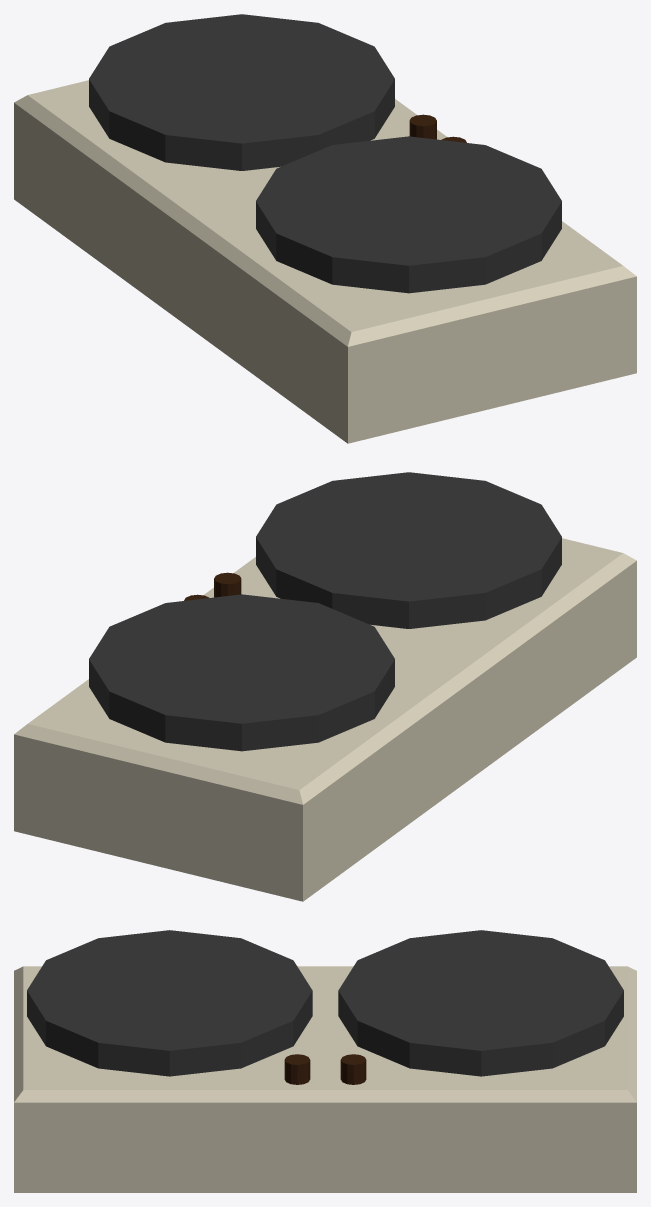
File: electricStove2.fbx
The picture shows the model from 3 angles, top to bottom: view 1: azimuth 30°, elevation 25°; view 2: azimuth 150°, elevation 25°; view 3: azimuth 270°, elevation 25°; orthographic projection. The views are drawn at different scales.
Parts seen in each view (by area): view 1: Cube, Cylinder.003, Cylinder.002, Cylinder.005; view 2: Cube, Cylinder.002, Cylinder.003, Cylinder.004; view 3: Cube, Cylinder.002, Cylinder.003, Cylinder.004, Cylinder.005.
Part boxes in pixels (x1,y1,x2,y2): Cube: [14, 80, 636, 443]; Cylinder.003: [256, 136, 561, 293]; Cylinder.002: [89, 14, 394, 170]; Cylinder.005: [409, 114, 436, 139]; Cube: [14, 538, 636, 901]; Cylinder.002: [89, 594, 394, 751]; Cylinder.003: [256, 472, 561, 628]; Cylinder.004: [214, 572, 241, 597]; Cube: [14, 966, 636, 1192]; Cylinder.002: [338, 930, 623, 1076]; Cylinder.003: [27, 930, 312, 1076]; Cylinder.004: [284, 1054, 310, 1084]; Cylinder.005: [340, 1054, 366, 1084].
Bounding box in the file's own units: 200 × 103 × 400.
